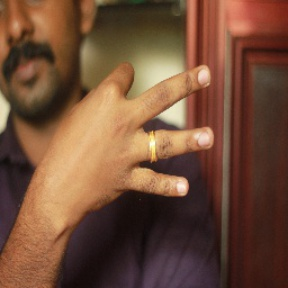K: (42, 61, 221, 211)
